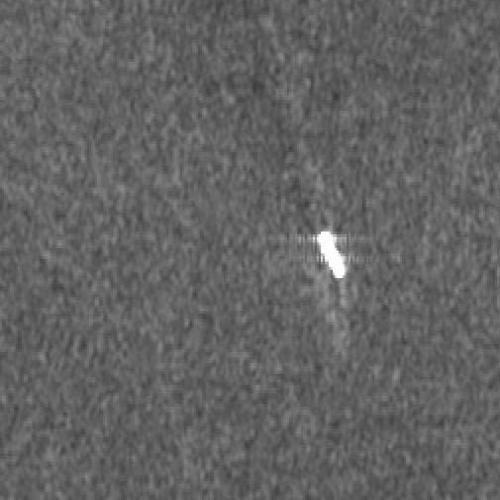ship: (315, 228, 348, 282)
